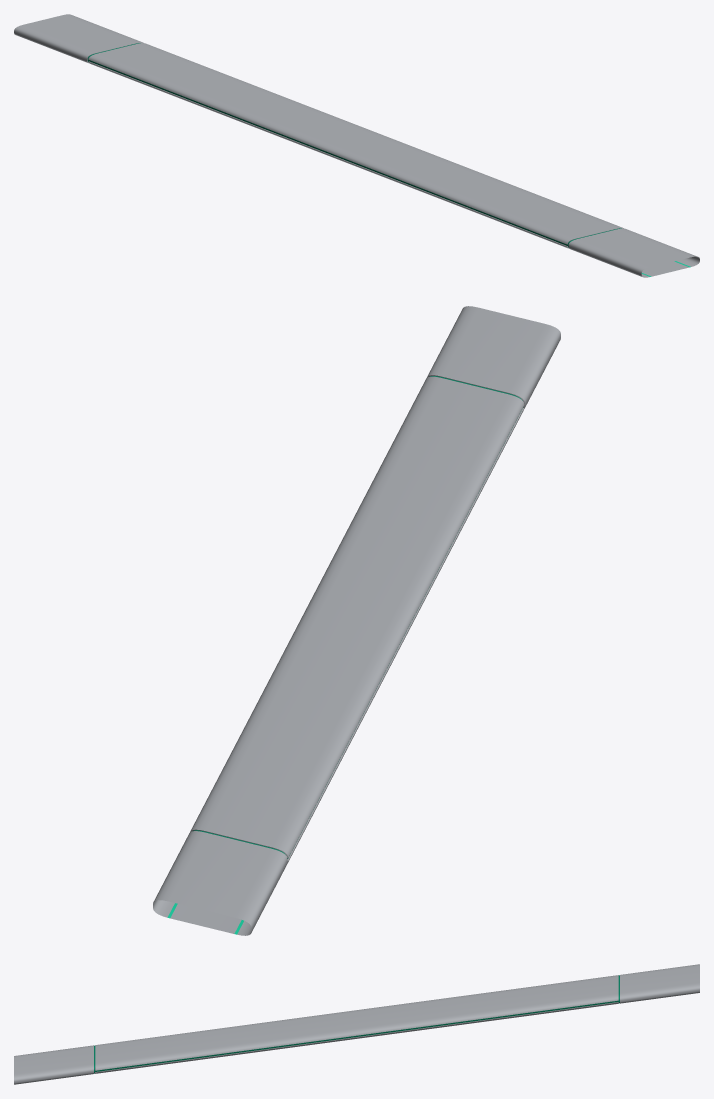
Rendered from W_O_Streetstand_001_b_L0.fbx.
3 views of the same model, one above another, from view 1: azimuth 30°, elevation 25°; view 2: azimuth 150°, elevation 25°; view 3: azimuth 270°, elevation 25° (orthographic). The views are drawn at different scales.
Visible parts, largest first — view 1: W_O_Streetstand_001_b_L0; view 2: W_O_Streetstand_001_b_L0; view 3: W_O_Streetstand_001_b_L0.
Boxes of the visible parts, x1,y1,x2,y2 form: W_O_Streetstand_001_b_L0: [14, 14, 699, 277]; W_O_Streetstand_001_b_L0: [153, 306, 560, 935]; W_O_Streetstand_001_b_L0: [14, 964, 699, 1084].
Bounding box in the file's own units: 3.6 × 0.12 × 9.
